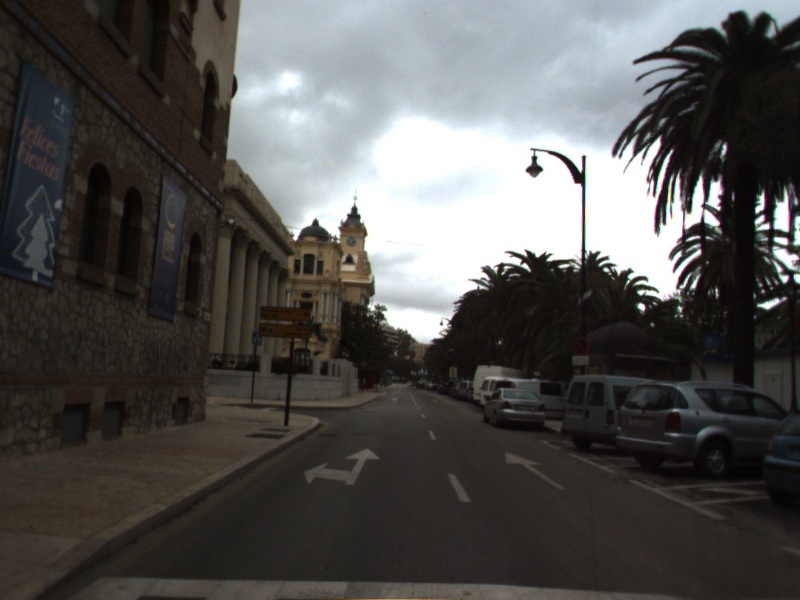STRAIGHT: (503, 450, 569, 492)
STRAIGHT_LEFT: (301, 445, 384, 487)
